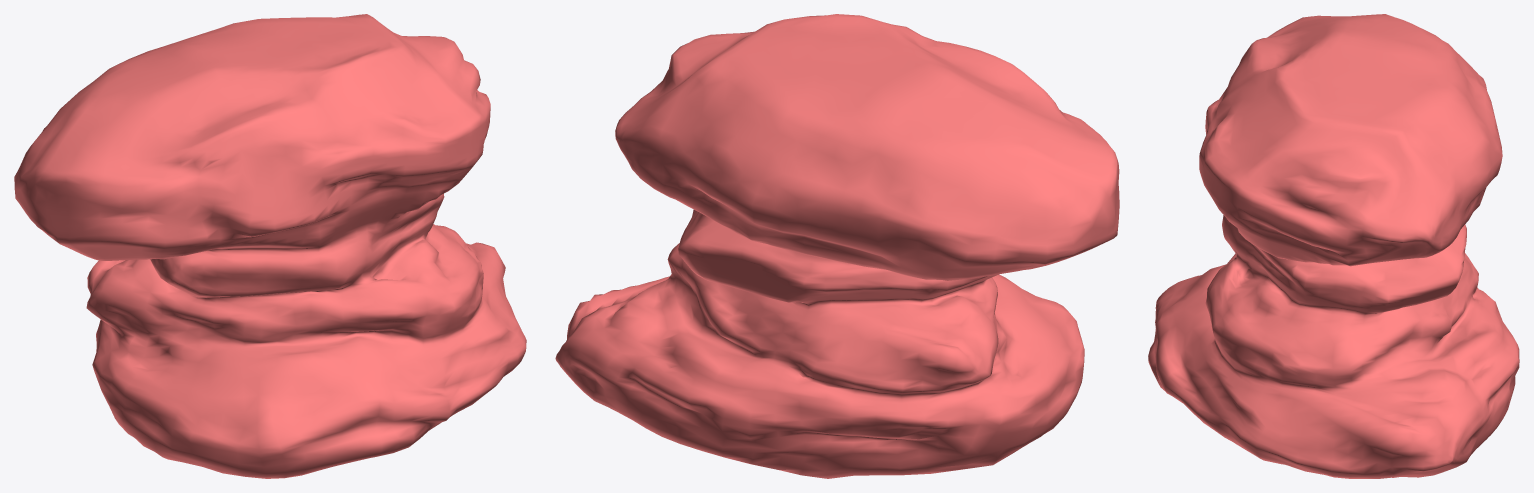
Rendered from rock3.fbx.
3 renders of one model, left to right at view 1: azimuth 30°, elevation 25°; view 2: azimuth 150°, elevation 25°; view 3: azimuth 270°, elevation 25°, orthographic. The views are drawn at different scales.
Parts seen in each view (by area): view 1: PM3D_Sphere3D_1; view 2: PM3D_Sphere3D_1; view 3: PM3D_Sphere3D_1.
Part boxes in pixels (bbox=[...]): PM3D_Sphere3D_1: bbox=[14, 14, 526, 478]; PM3D_Sphere3D_1: bbox=[555, 14, 1119, 478]; PM3D_Sphere3D_1: bbox=[1148, 14, 1519, 478].
Bounding box in the file's own units: 2 × 1.42 × 1.4.
